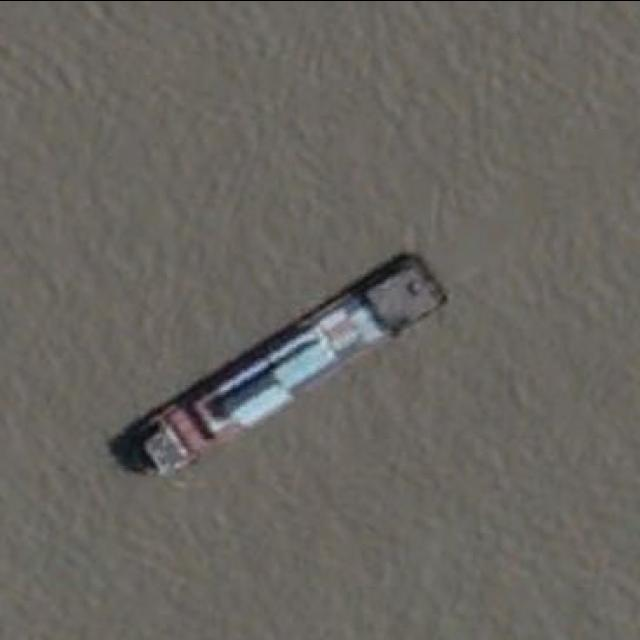ship: (110, 251, 450, 480)
